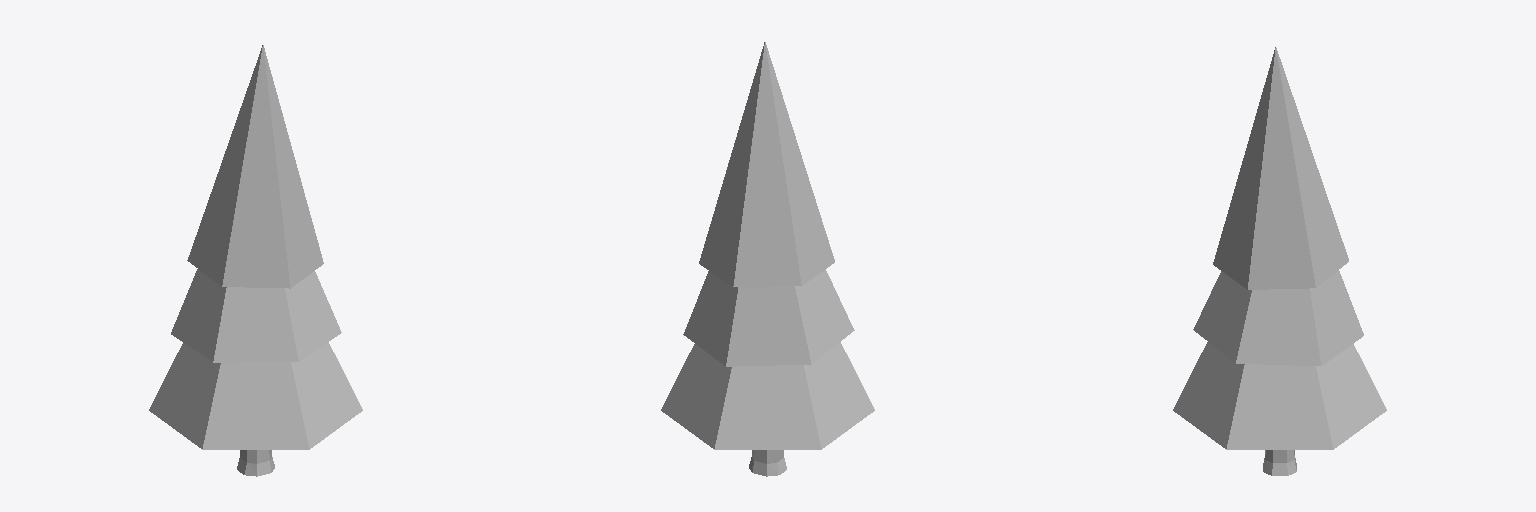
The model's file is Tree_Pine_1.obj.
3 renders of one model, left to right at view 1: azimuth 30°, elevation 25°; view 2: azimuth 150°, elevation 25°; view 3: azimuth 270°, elevation 25°, orthographic.
Visible parts, largest first — view 1: Cone.095_Cone.158, Cone.097_Cone.160, Cone.096_Cone.159, Cube.079_Cube.277; view 2: Cone.095_Cone.158, Cone.097_Cone.160, Cone.096_Cone.159, Cube.079_Cube.277; view 3: Cone.095_Cone.158, Cone.097_Cone.160, Cone.096_Cone.159, Cube.079_Cube.277.
Part boxes in pixels (bbox=[...]): Cone.095_Cone.158: bbox=[187, 45, 323, 288]; Cone.097_Cone.160: bbox=[149, 342, 362, 449]; Cone.096_Cone.159: bbox=[171, 269, 341, 362]; Cube.079_Cube.277: bbox=[237, 450, 274, 476]; Cone.095_Cone.158: bbox=[699, 42, 834, 286]; Cone.097_Cone.160: bbox=[661, 342, 874, 449]; Cone.096_Cone.159: bbox=[683, 269, 854, 366]; Cube.079_Cube.277: bbox=[749, 450, 786, 476]; Cone.095_Cone.158: bbox=[1213, 47, 1348, 289]; Cone.097_Cone.160: bbox=[1173, 342, 1386, 449]; Cone.096_Cone.159: bbox=[1193, 270, 1363, 365]; Cube.079_Cube.277: bbox=[1263, 450, 1296, 475].
Size of the model in its own units: 2.14 by 5.4 by 2.47.